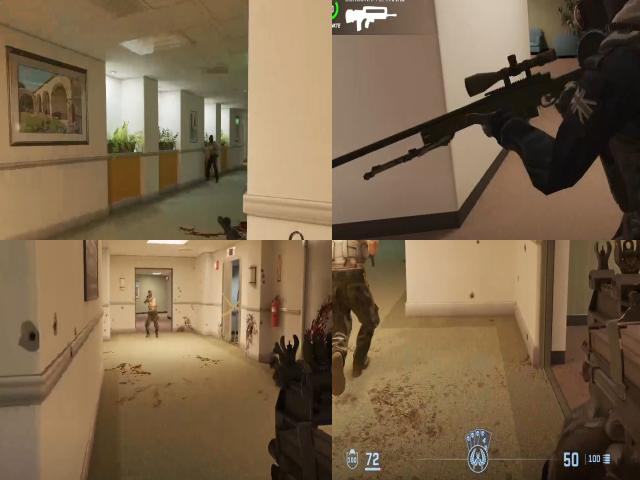CT: (569, 0, 640, 240)
CT-Head: (569, 0, 637, 67)
Dead: (195, 200, 247, 240)
T: (332, 240, 383, 285), (204, 130, 222, 169), (144, 284, 158, 331)
T-Head: (206, 130, 217, 146), (146, 288, 154, 301)
